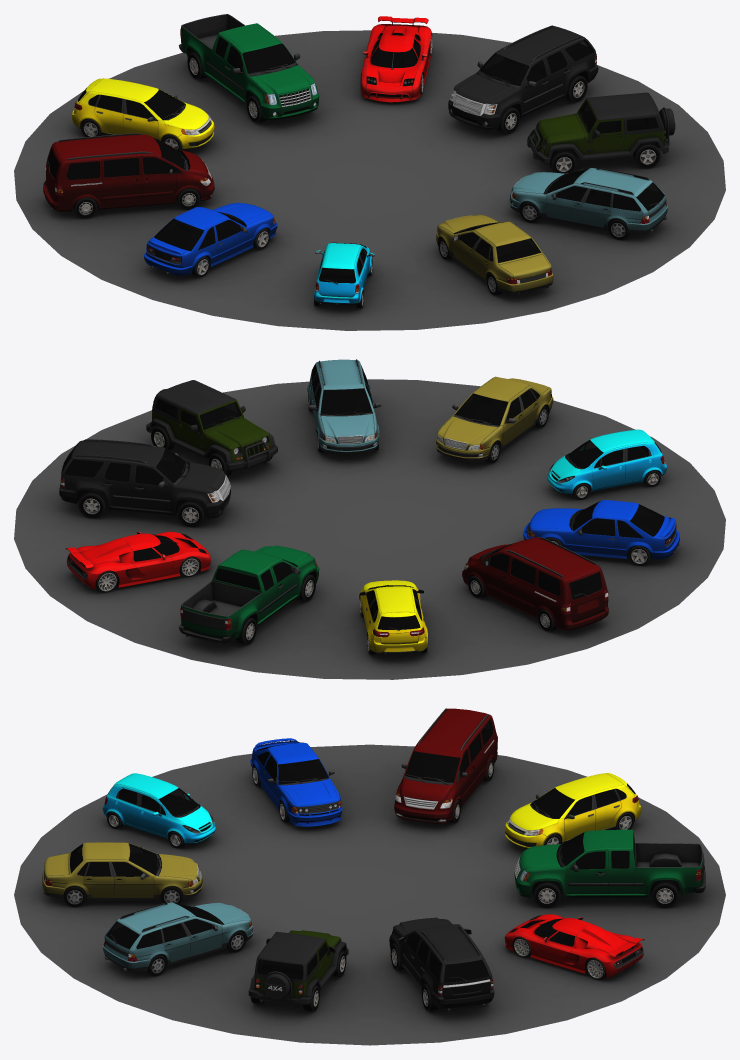
Rendered from carpack.glb.
The picture shows the model from 3 angles, top to bottom: view 1: azimuth 30°, elevation 25°; view 2: azimuth 150°, elevation 25°; view 3: azimuth 270°, elevation 25°; orthographic projection.
Parts seen in each view (by area): view 1: Cylinder001, minivan body, SUV Body, Pickup Body, Wagon Body, Offroad Body, Hatchback Body, Coupe Body, Sedan Body, Sport body, Compact Body, Wheel_G001 (+1 smaller); view 2: Cylinder001, SUV Body, minivan body, Pickup Body, Offroad Body, Coupe Body, Sedan Body, Wagon Body, Sport body, Compact Body, Hatchback Body, Wheel_E003 (+1 smaller); view 3: Cylinder001, Pickup Body, minivan body, Sedan Body, Wagon Body, SUV Body, Hatchback Body, Coupe Body, Offroad Body, Sport body, Compact Body, Wheel_E001 (+1 smaller).
Boxes of the visible parts, box(x1,y1,x2,y2) form: Cylinder001: box(14, 30, 725, 330); minivan body: box(43, 133, 214, 211); SUV Body: box(448, 25, 598, 130); Pickup Body: box(178, 14, 319, 120); Wagon Body: box(509, 168, 667, 234); Offroad Body: box(527, 92, 675, 163); Hatchback Body: box(72, 78, 214, 149); Coupe Body: box(144, 202, 277, 275); Sedan Body: box(436, 215, 553, 295); Sport body: box(361, 16, 431, 102); Compact Body: box(314, 242, 374, 305); Wheel_G001: box(633, 142, 660, 168); Cylinder001: box(14, 379, 725, 679); SUV Body: box(59, 439, 230, 518); minivan body: box(462, 537, 608, 630); Pickup Body: box(179, 545, 319, 644); Offroad Body: box(146, 380, 277, 470); Coupe Body: box(523, 500, 679, 559); Sedan Body: box(435, 376, 553, 461); Wagon Body: box(307, 359, 381, 453); Sport body: box(65, 531, 210, 589); Compact Body: box(547, 429, 666, 494); Hatchback Body: box(359, 580, 427, 655); Wheel_E003: box(78, 490, 106, 518); Cylinder001: box(14, 744, 725, 1045); Pickup Body: box(514, 829, 705, 898); minivan body: box(394, 708, 497, 823); Sedan Body: box(42, 842, 203, 900); Wagon Body: box(103, 902, 253, 971); SUV Body: box(389, 917, 494, 1011); Hatchback Body: box(504, 773, 641, 848); Coupe Body: box(250, 738, 342, 826); Offroad Body: box(248, 930, 348, 1005); Sport body: box(504, 914, 644, 977); Compact Body: box(102, 773, 215, 844); Wheel_E001: box(651, 880, 678, 908).
Size of the model in its own units: 19.27 by 1.76 by 19.27.
22 materials, 22 textured.
